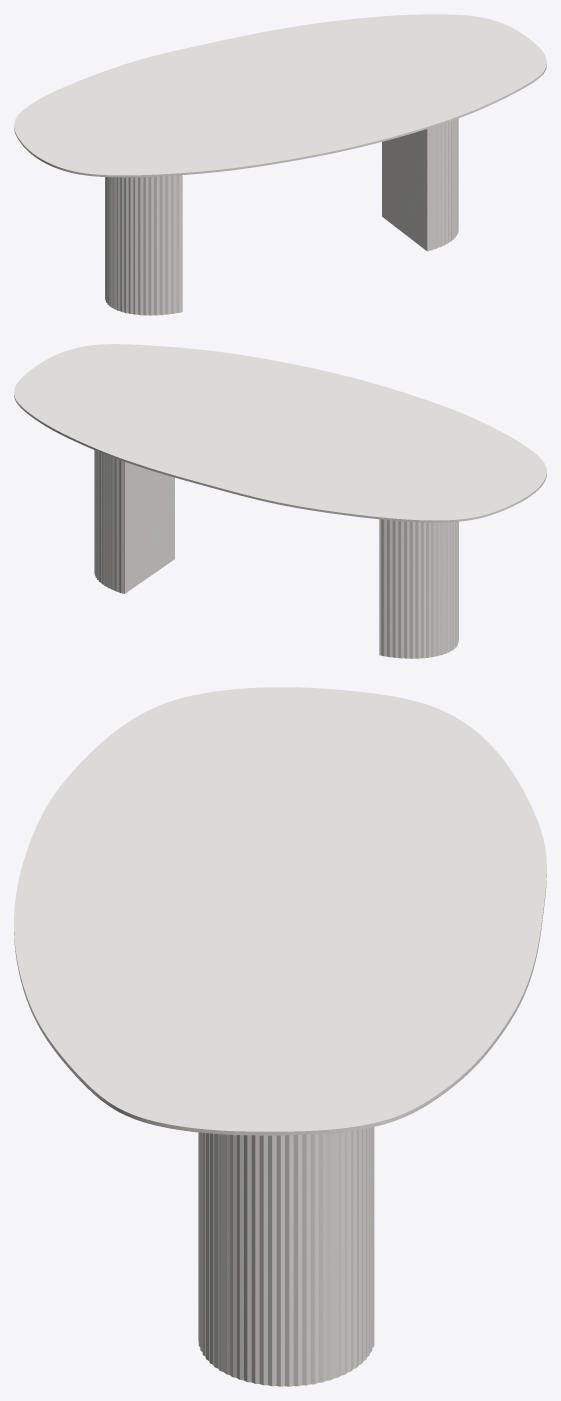
The model's file is purewhite_danish_facet_flute.glb.
3 renders of one model, top to bottom at view 1: azimuth 30°, elevation 25°; view 2: azimuth 150°, elevation 25°; view 3: azimuth 270°, elevation 25°, orthographic. The views are drawn at different scales.
Visible parts, largest first — view 1: facet_danish, flute; view 2: facet_danish, flute; view 3: facet_danish, flute.
Part boxes in pixels (x1,y1,x2,y2): facet_danish: [14, 14, 546, 177]; flute: [105, 118, 458, 315]; facet_danish: [14, 344, 546, 522]; flute: [94, 450, 458, 658]; facet_danish: [14, 687, 546, 1135]; flute: [198, 1127, 374, 1386].
Size of the model in its own units: 7.5 by 2.5 by 3.8.
Materials: 1 (1 with a texture image).
